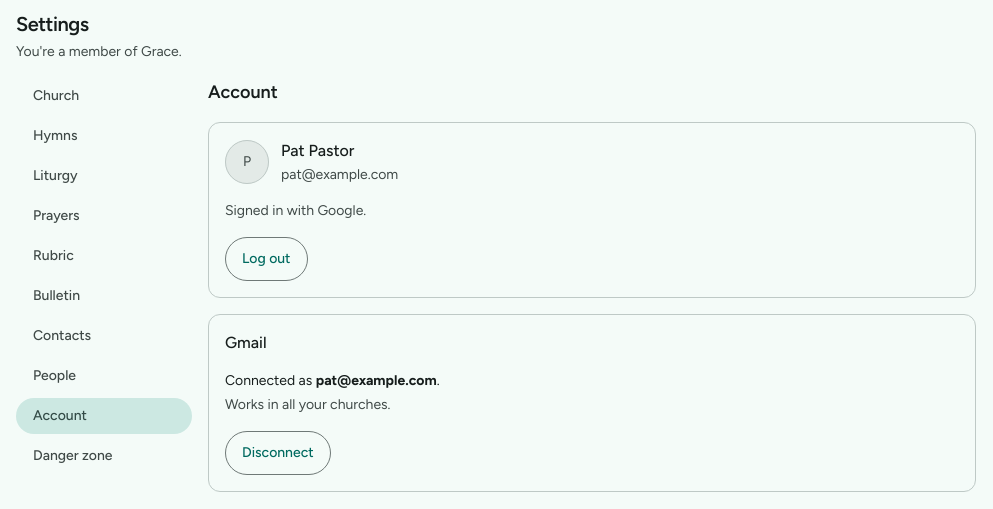
Scenario: Settings → Account (slice 5b-2) › shows the connected address, and Disconnect shows the Connect button with no toast
This screenshot has width=993, height=509.
Expected: the text "pat@example.com" next to "Connected as" is shown, [316,372,437,389]
Expected: the element "Gmail" shows "Connected as pat@example.com.", [208,314,976,492]
Click the button "Disconnect". click: (278, 453)
box: [225,431,331,475]
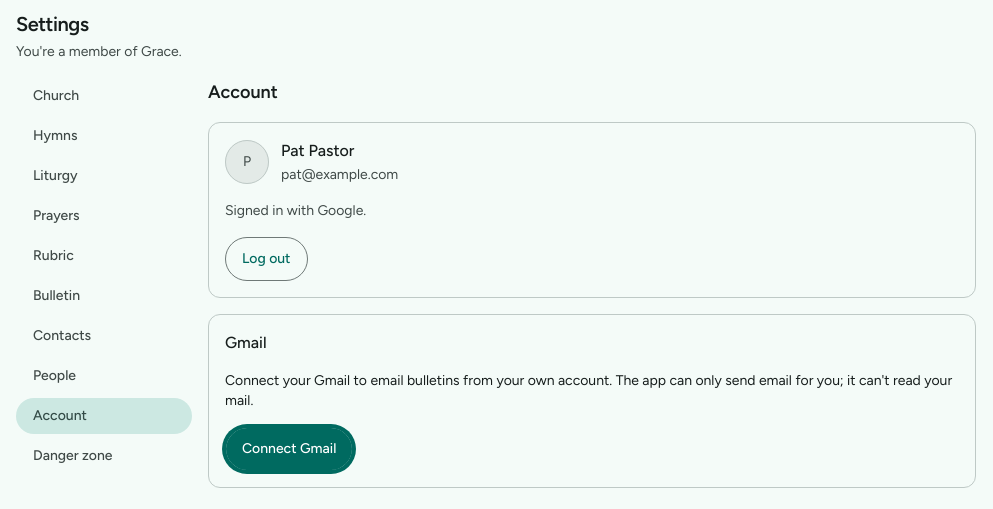
Result: the button "Connect Gmail" is shown at [225,427,353,471]
Result: the text "Connect your Gmail to email bulletins from your own account. The app can only send email for you; it can't read your mai" shows "Connect your Gmail to email bulletins from your own account. The app can only send email for you; it can't read your mail." at [225,372,952,409]
